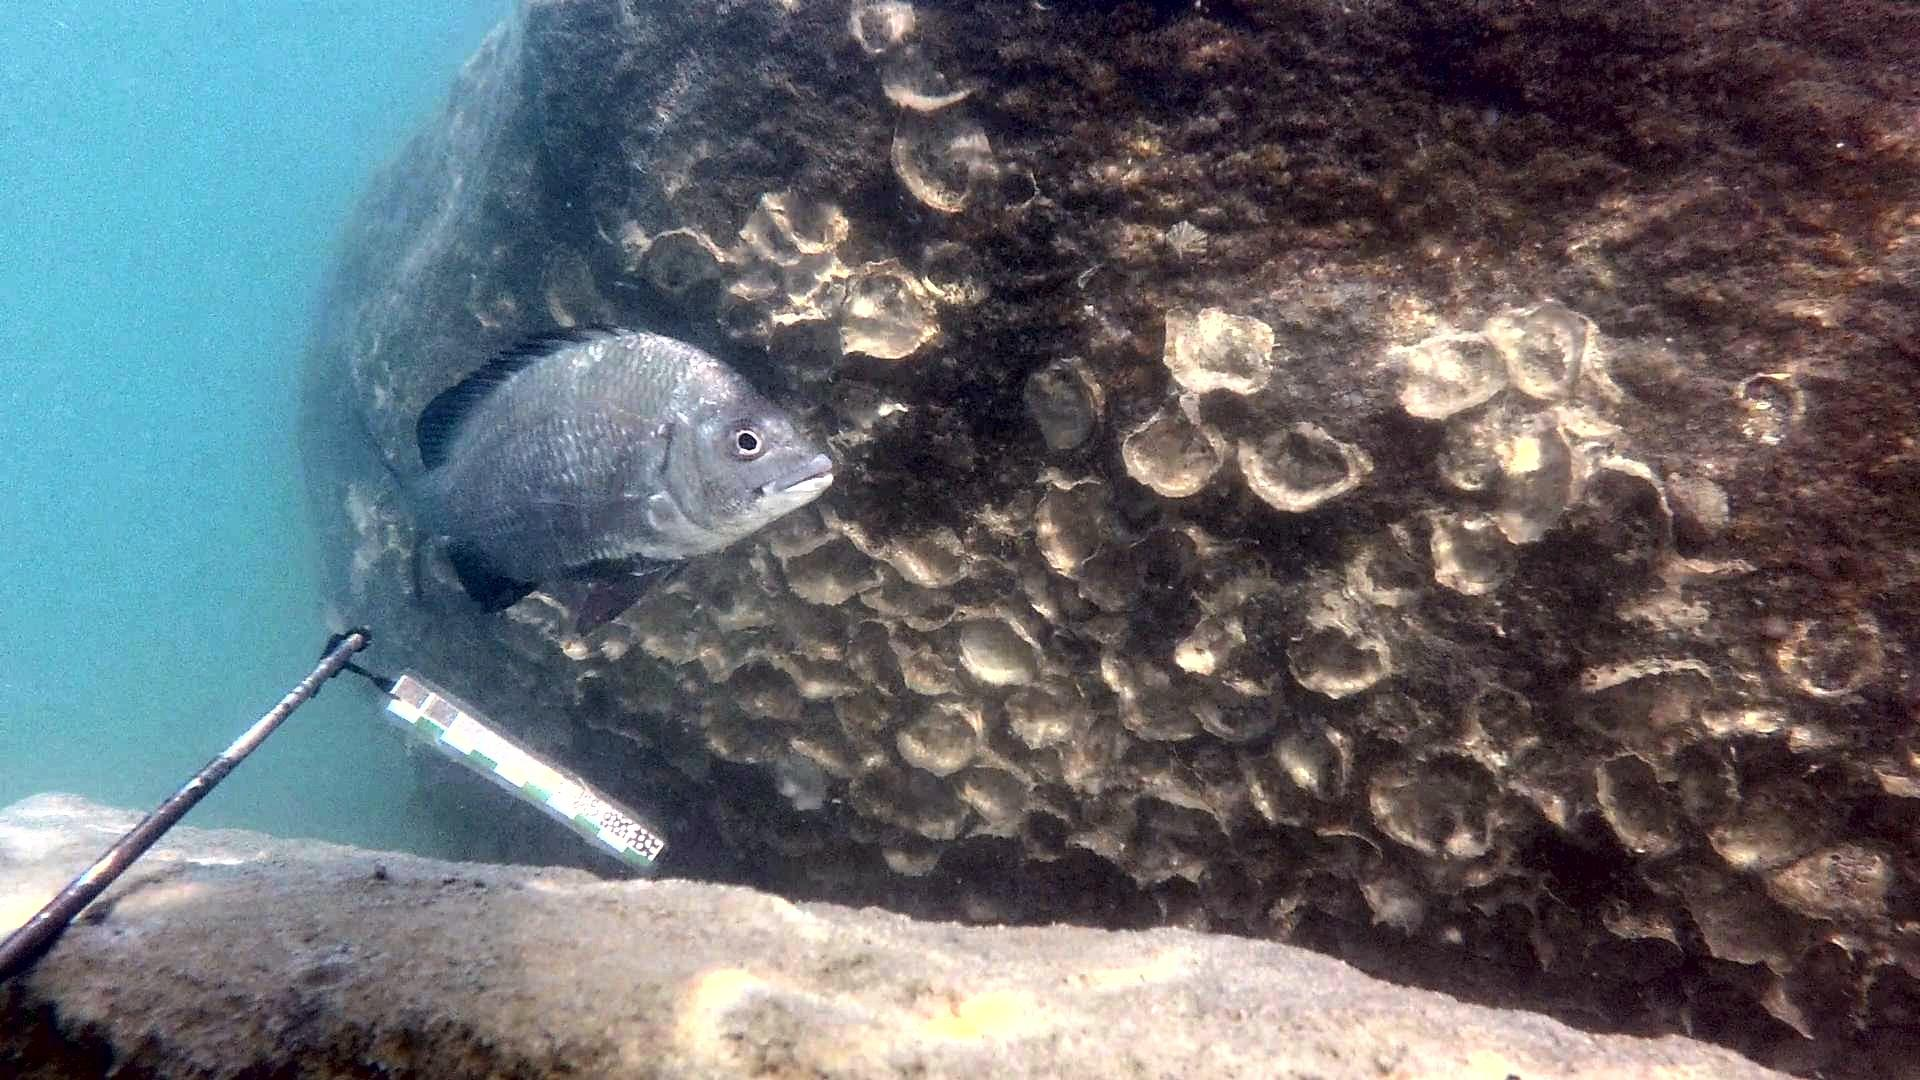acanthopagrus palmaris: (340, 314, 843, 642)
